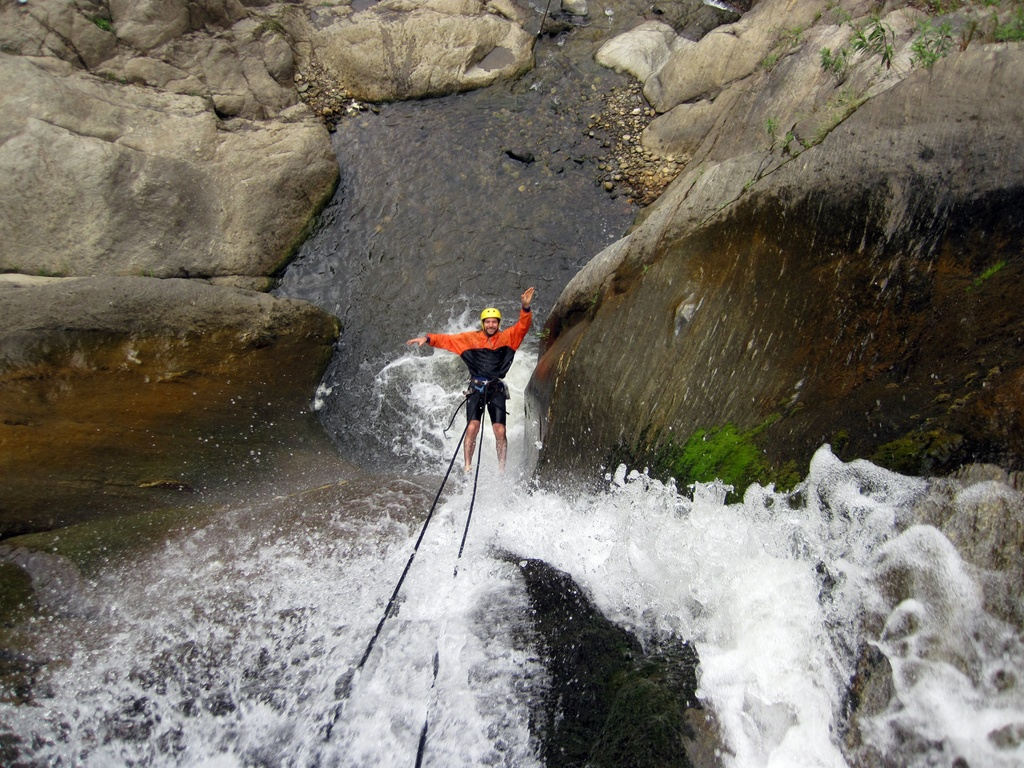Person: (406, 286, 535, 474)
